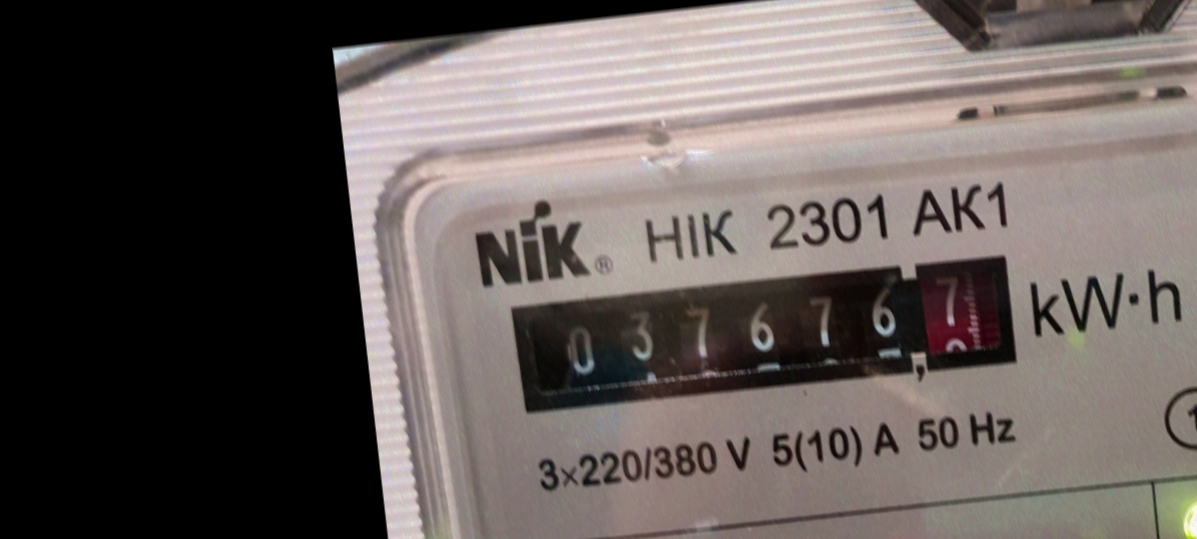0: (562, 319, 601, 378)
3: (623, 305, 657, 364)
6: (742, 296, 780, 353), (865, 282, 901, 339)
7: (804, 291, 841, 352), (681, 301, 718, 361), (932, 271, 966, 329)
screen: (494, 232, 1035, 437)
